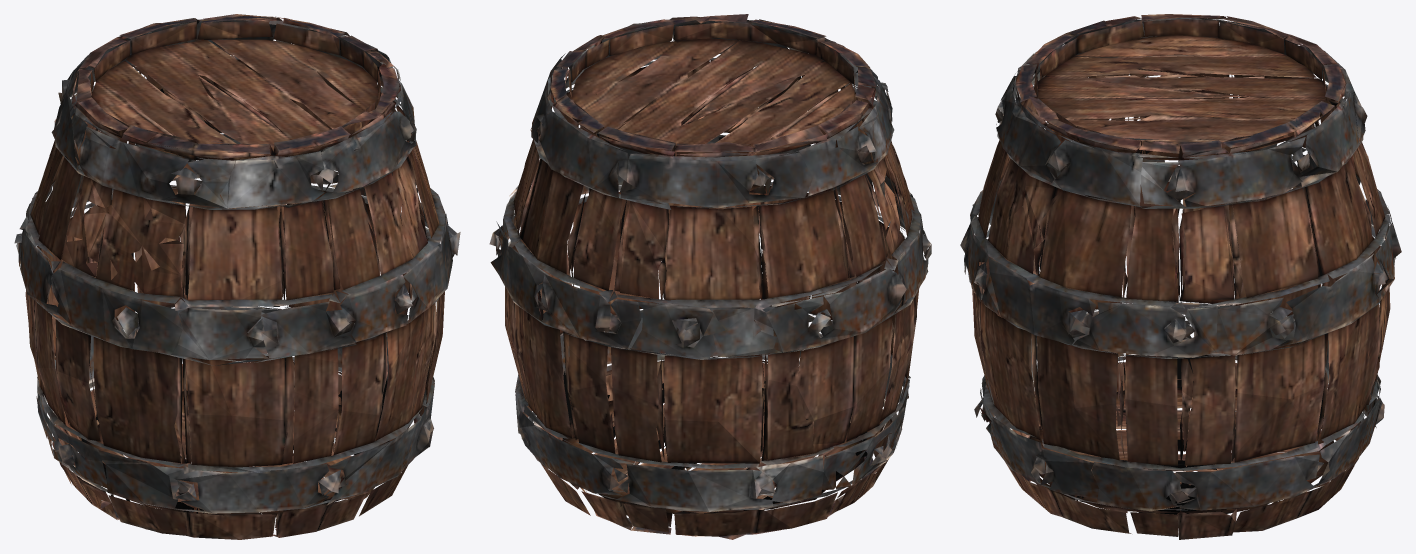
File: pro_barrel.glb
3 views of the same model, side by side, from view 1: azimuth 30°, elevation 25°; view 2: azimuth 150°, elevation 25°; view 3: azimuth 270°, elevation 25° (orthographic).
Visible parts, largest first — view 1: MetricPlacement; view 2: MetricPlacement; view 3: MetricPlacement.
Part boxes in pixels (x1,y1,x2,y2): MetricPlacement: [14, 14, 460, 539]; MetricPlacement: [489, 14, 931, 539]; MetricPlacement: [960, 14, 1401, 539].
Size of the model in its own units: 0.8641 by 0.85 by 0.8629.
Materials: 1 (1 with a texture image).
